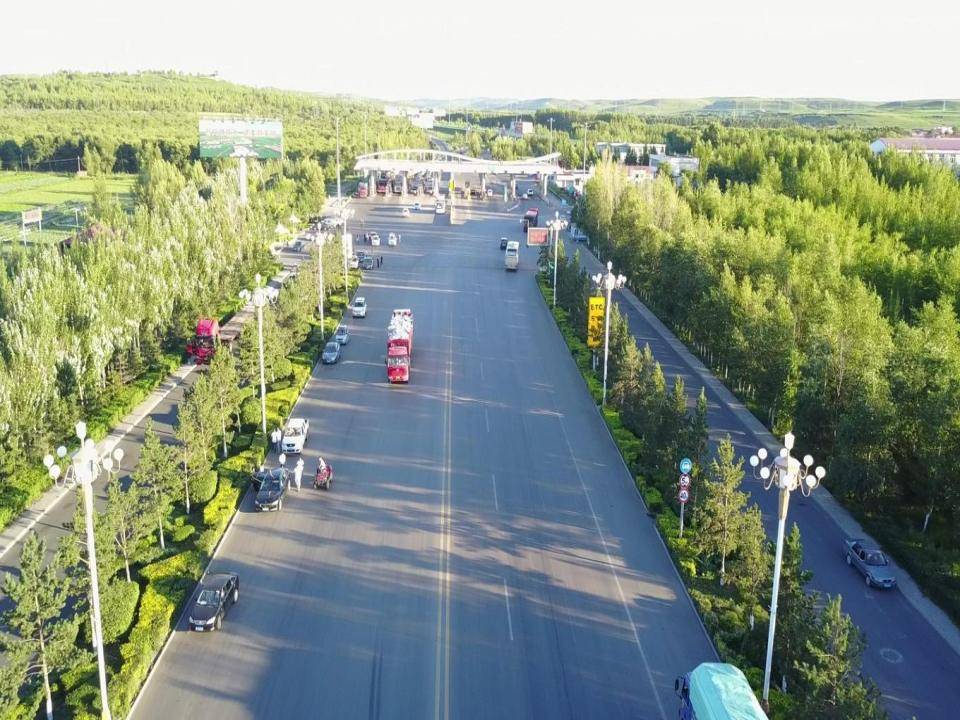bus: (505, 241, 521, 269), (436, 195, 446, 214)
car: (189, 572, 240, 632), (842, 538, 897, 588), (251, 468, 290, 512), (322, 342, 340, 363), (292, 240, 306, 251), (312, 221, 328, 230), (330, 217, 344, 226), (363, 257, 373, 269), (355, 250, 365, 262), (388, 232, 396, 246), (370, 235, 380, 246), (368, 231, 377, 243), (414, 202, 420, 210), (522, 193, 527, 199), (470, 189, 475, 195), (487, 148, 491, 152), (460, 150, 463, 154)
truck: (196, 307, 259, 365), (385, 309, 414, 383), (282, 418, 308, 454), (523, 208, 539, 232)
van: (335, 324, 349, 344), (352, 297, 366, 317), (314, 215, 333, 226), (348, 255, 359, 269), (321, 217, 333, 229), (500, 238, 508, 251), (402, 208, 410, 217), (527, 188, 533, 196), (487, 189, 493, 197), (514, 183, 518, 188)
